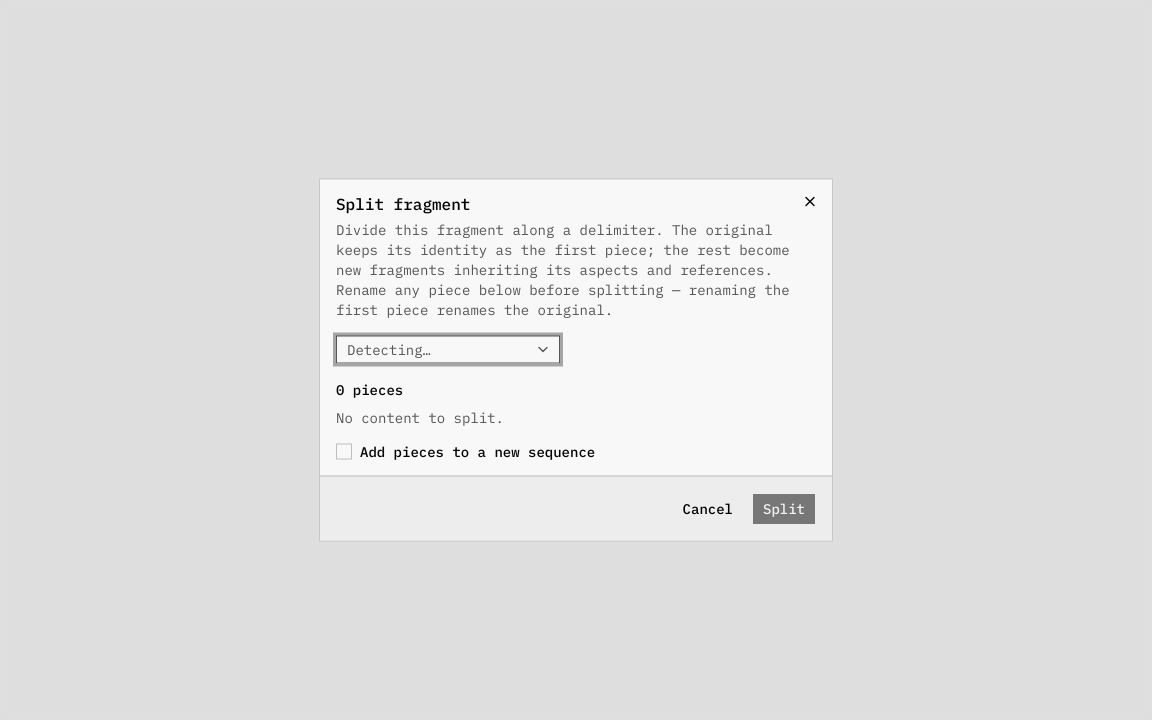
Scenario: SplitFragmentDialog › reveals a name input pre-filled with the original fragment's key when the checkbox is checked
What coordinates should you click on to do the following:
click the checkbox named "Add pieces to a new sequence"
I would click on:
 (344, 452)
Its box is 336,444 -> 352,460.
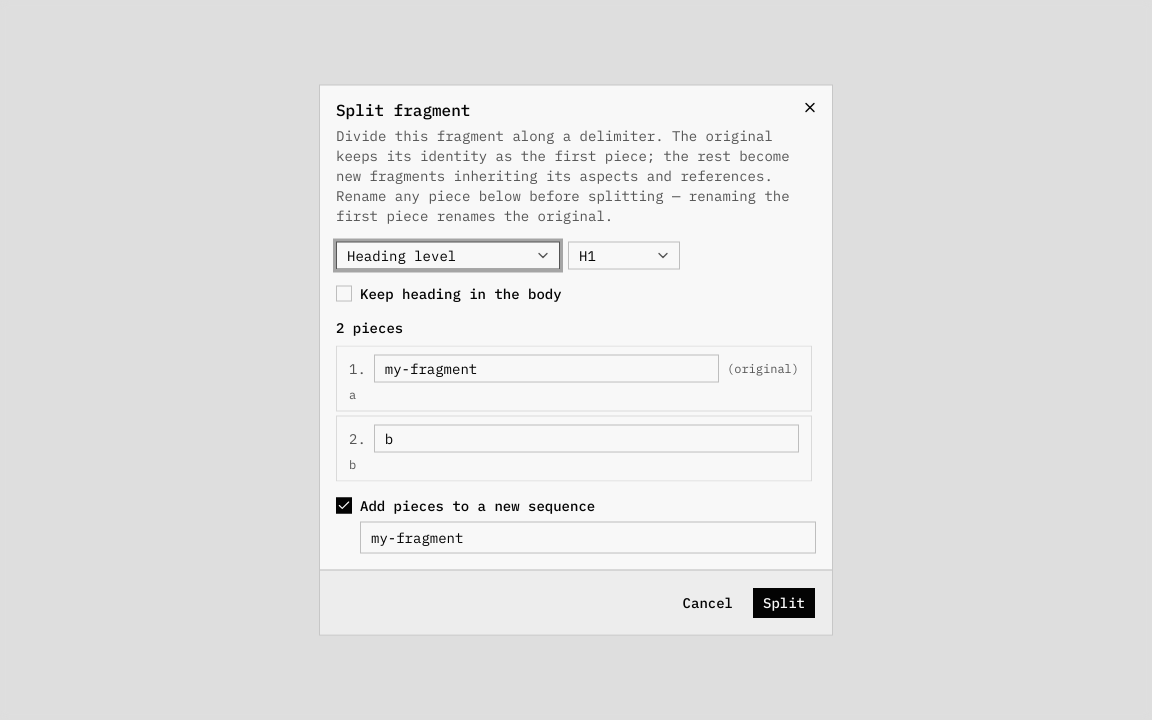
Now the field named "New sequence name" holds "my-fragment", box 360,522 -> 816,554
